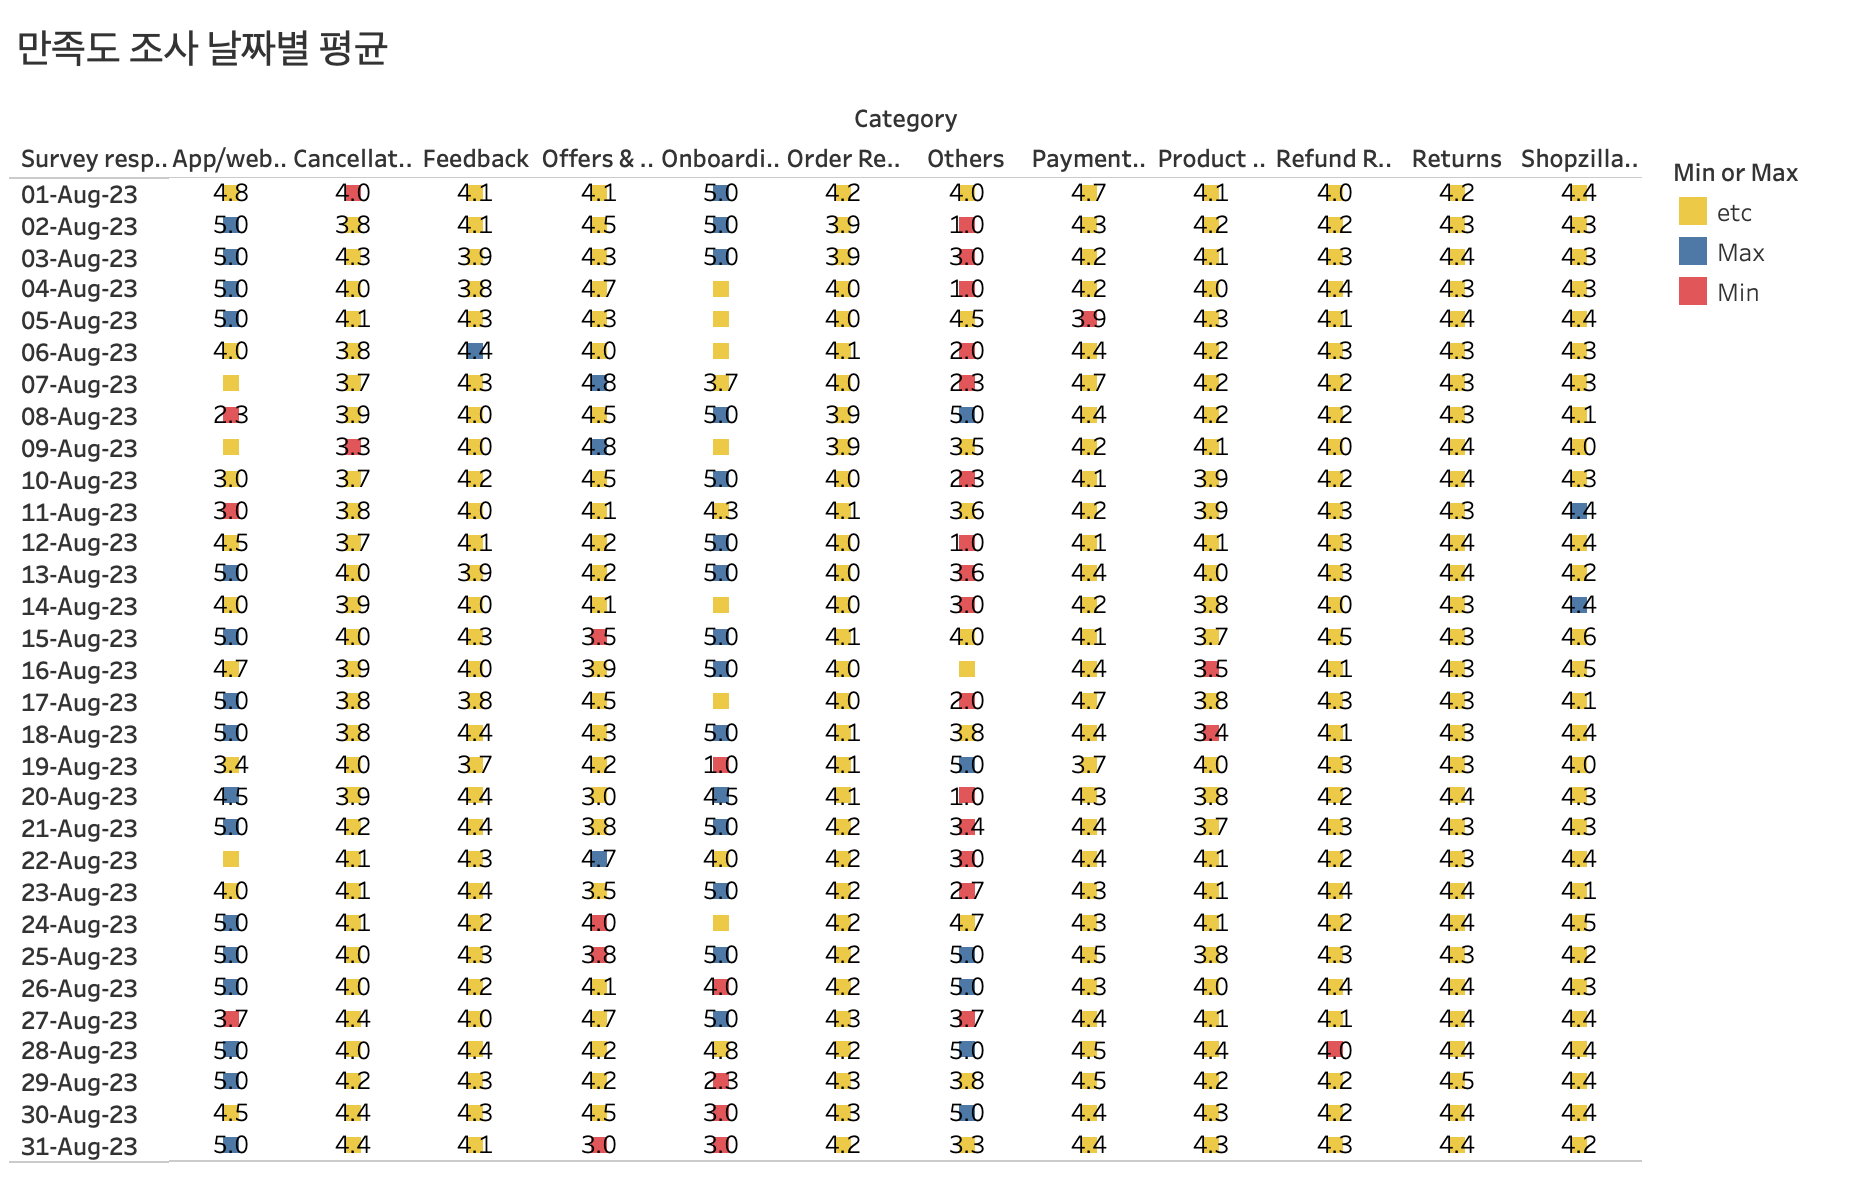

Layout of this report page (visuals, bound fields, positions):
{"tool":"tableau","page":{"name":"대시보드 3","canvas":[1000,800],"ordinal":2},"visuals":[{"type":"worksheet","title":"시트 8","mark":"Automatic","rows":["Calculation_1683783375418212359","Calculation_1683783375836082185"],"cols":["Agent Shift"],"box":[8,8,824,784]},{"type":"legend","title":"시트 8","param":"[federated.0u08qbd1evxdp019ht25v1j5txk8].[:Measure Names]","box":[832,8,160,66]}]}

Visuals, with their boxes on the page's 1000x800 design canvas (x1, y1, x2, y2). These are canvas units, not pixel positions in the 1864x1179 screenshot, which may show the page scaled, cropped or inside an application window:
"시트 8" worksheet: 8,8,832,792
"시트 8" legend: 832,8,992,74
